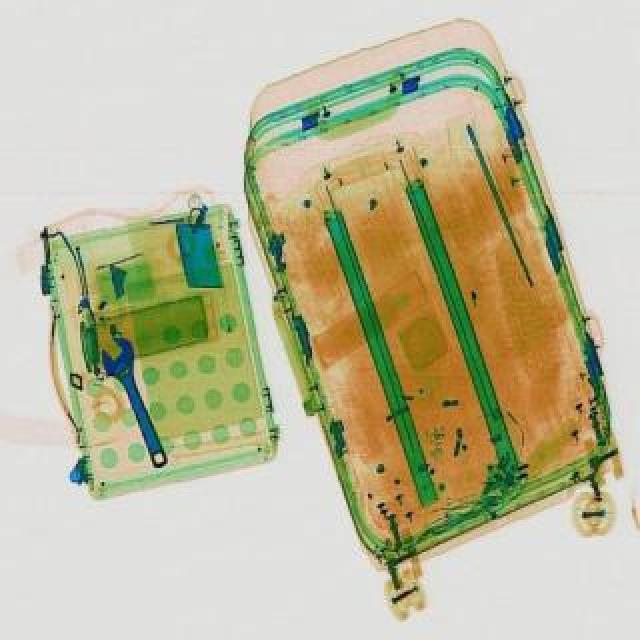scissors: (92, 328, 178, 468)
